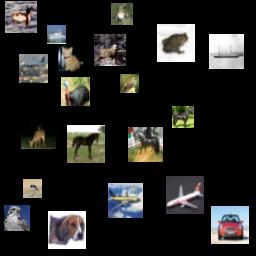airplane: (166, 176, 204, 214), (108, 183, 143, 218), (19, 54, 48, 83)
automobile: (211, 206, 249, 244)
bird: (5, 1, 37, 33), (61, 77, 90, 106), (4, 205, 30, 231), (120, 74, 139, 93), (23, 179, 42, 198)
cat: (58, 46, 84, 72)
deer: (21, 114, 56, 149), (94, 34, 126, 66)
dog: (48, 211, 86, 249)
frog: (157, 24, 195, 62), (111, 3, 133, 25)
ship: (209, 34, 244, 69), (47, 25, 66, 44)
